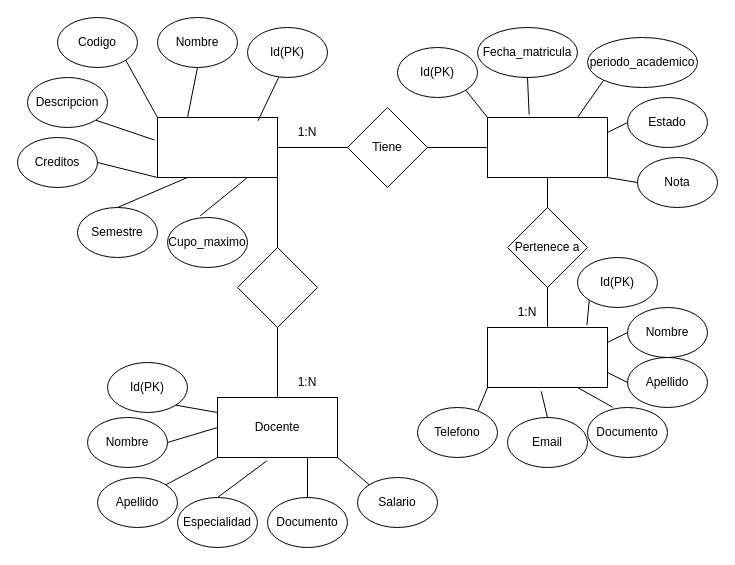
This 735x565 diagram has some shape labels left out. Here are the shapes that lost their labels. From the top down, the centre of each, then its label:
the point at 217,147: Curso
the point at 547,147: Matricula
the point at 277,287: Dicta
the point at 547,357: Estudiante
